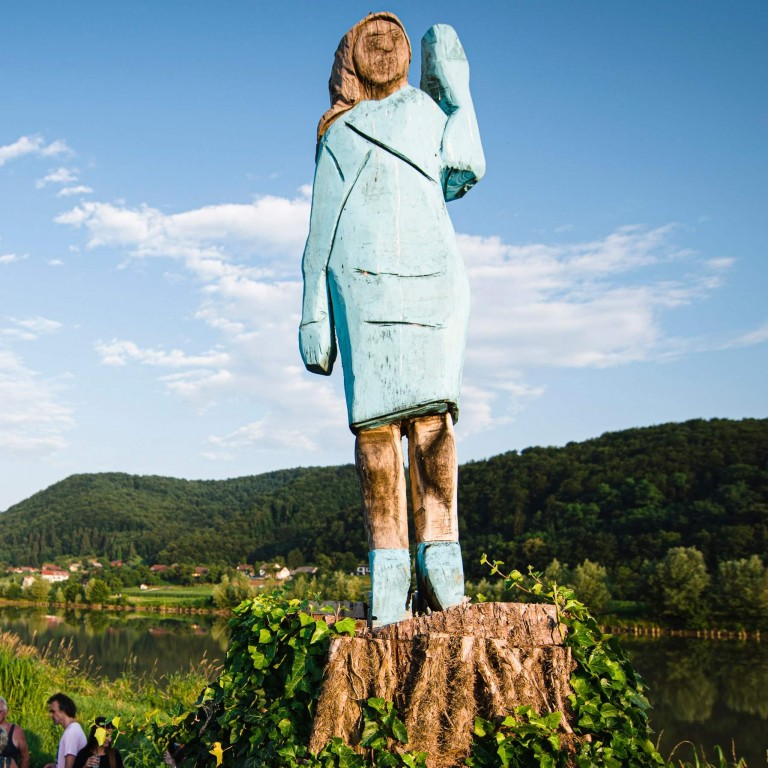person: (46, 691, 94, 768), (69, 715, 122, 768), (3, 690, 29, 768)
person-like: (291, 7, 500, 625)
